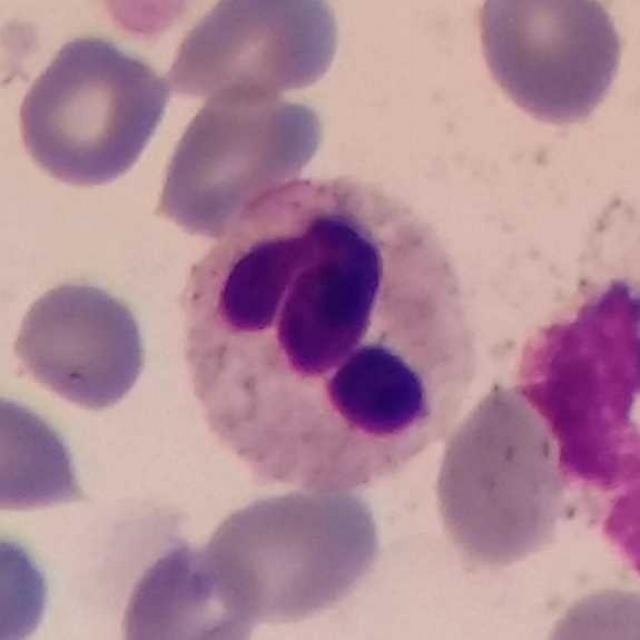Neutrophil: (165, 156, 496, 500)
Platelets: (0, 525, 59, 639)
RBC: (426, 373, 584, 571), (507, 266, 639, 496), (195, 481, 387, 629), (148, 80, 327, 238), (10, 29, 175, 191), (5, 273, 154, 414), (467, 0, 629, 129), (164, 0, 346, 106), (113, 535, 267, 639), (0, 384, 90, 519), (597, 445, 640, 601), (0, 527, 59, 639), (76, 0, 231, 42), (533, 581, 640, 640)
